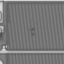dust: (30, 27, 36, 31), (30, 32, 36, 36)
